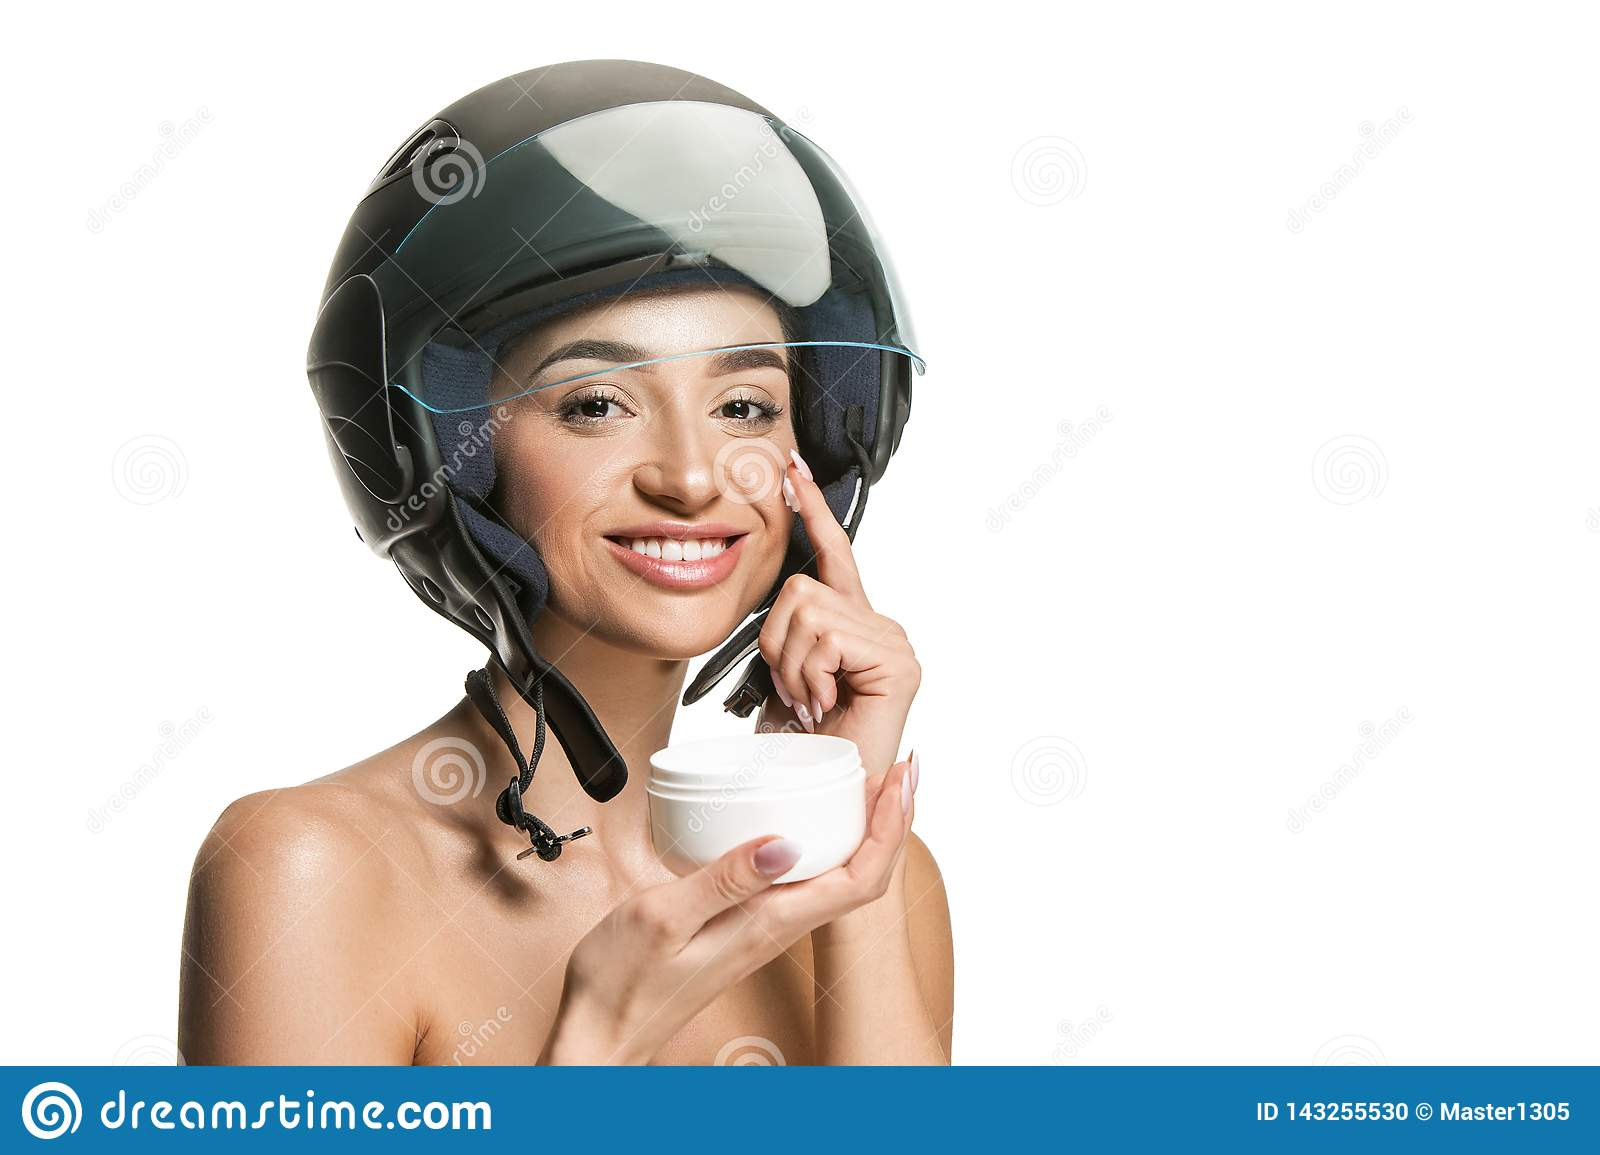helmet: (293, 47, 925, 597)
